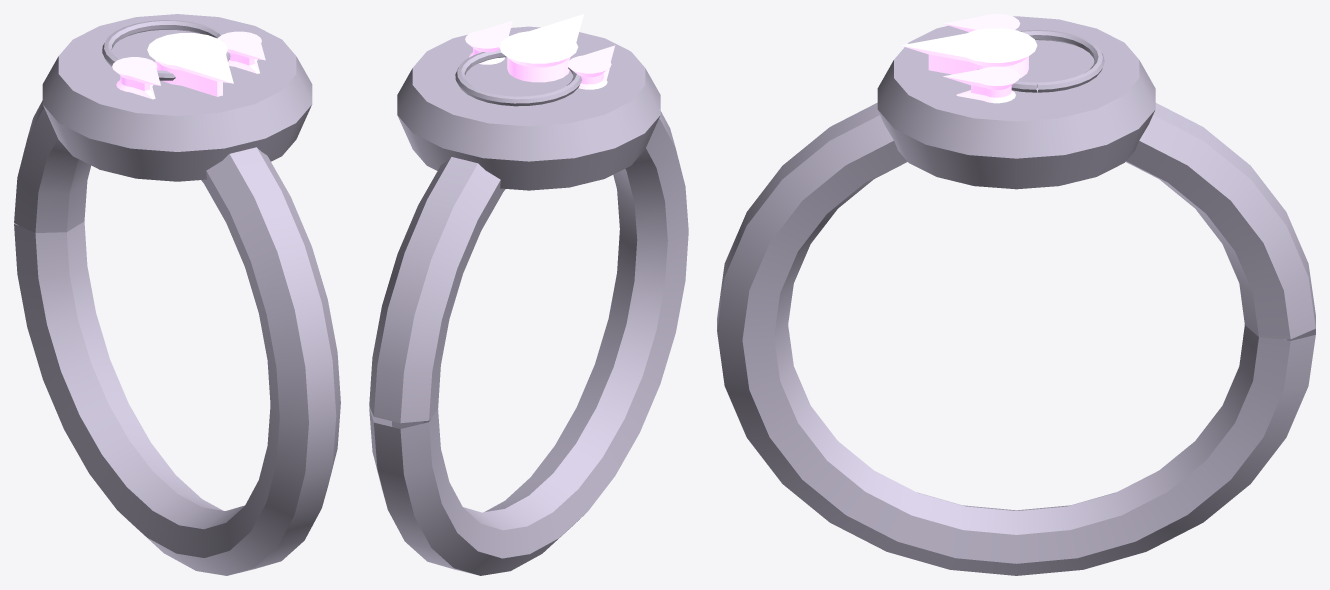
Rendered from boss_wailing_mistress_accessory_1.glb.
3 renders of one model, left to right at view 1: azimuth 30°, elevation 25°; view 2: azimuth 150°, elevation 25°; view 3: azimuth 270°, elevation 25°, orthographic. The views are drawn at different scales.
Parts seen in each view (by area): view 1: boss_wailing_mistress_accessory_1; view 2: boss_wailing_mistress_accessory_1; view 3: boss_wailing_mistress_accessory_1.
Part boxes in pixels (left/top/right/bottom): boss_wailing_mistress_accessory_1: left=14, top=14, right=340, bottom=575; boss_wailing_mistress_accessory_1: left=369, top=14, right=688, bottom=575; boss_wailing_mistress_accessory_1: left=717, top=14, right=1315, bottom=575.
Size of the model in its own units: 0.068 by 0.1391 by 0.1442.
